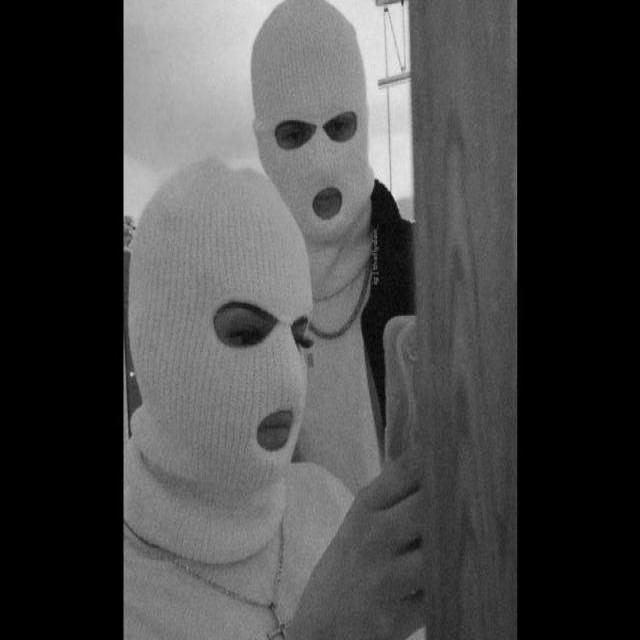6_pasamontana: (125, 162, 312, 566)
